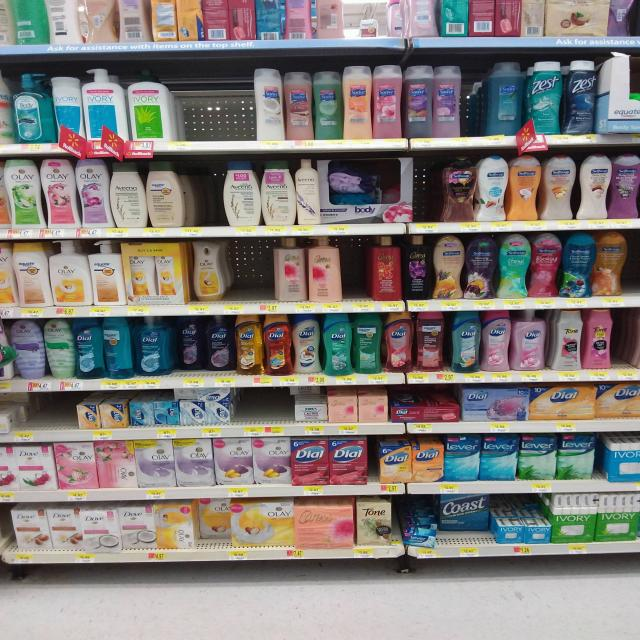void: (177, 58, 251, 139), (226, 239, 272, 301), (11, 392, 74, 432), (186, 158, 221, 226), (234, 391, 286, 421)
